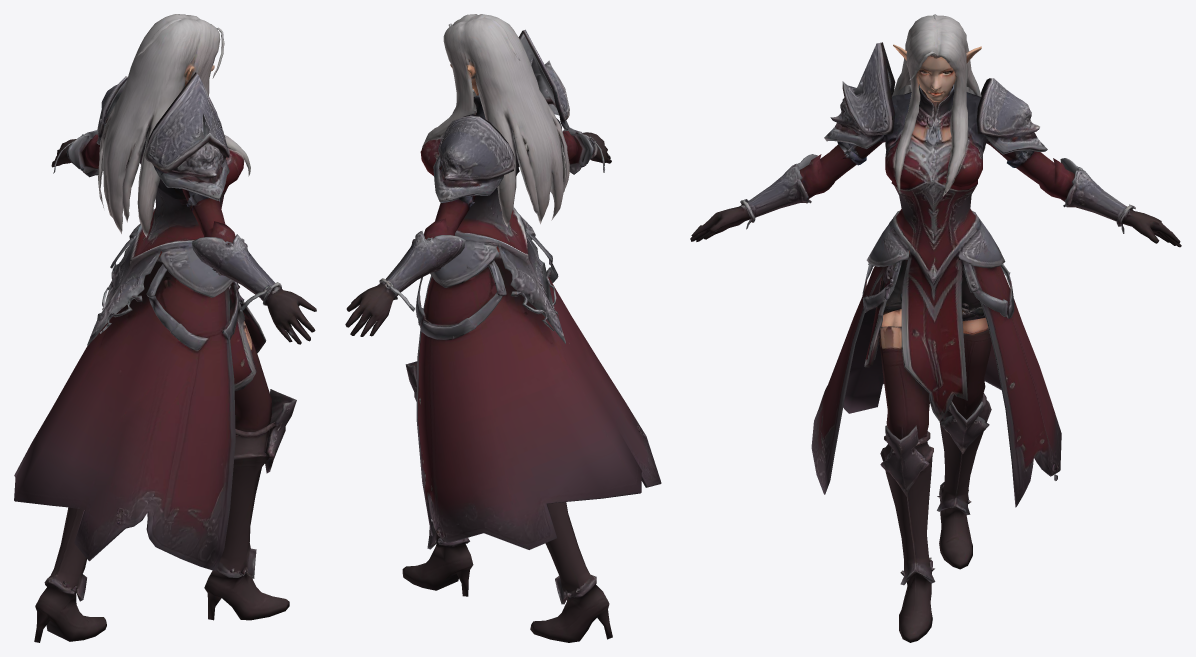
The model's file is player.glb.
The picture shows the model from 3 angles, left to right: view 1: azimuth 30°, elevation 25°; view 2: azimuth 150°, elevation 25°; view 3: azimuth 270°, elevation 25°; orthographic projection. The views are drawn at different scales.
Visible parts, largest first — view 1: tripo_node_5d50fbbb-e93b-4626-8312-487733e885f3; view 2: tripo_node_5d50fbbb-e93b-4626-8312-487733e885f3; view 3: tripo_node_5d50fbbb-e93b-4626-8312-487733e885f3.
Part boxes in pixels (box(x1,y1,x2,y2)): tripo_node_5d50fbbb-e93b-4626-8312-487733e885f3: box(14, 14, 316, 642); tripo_node_5d50fbbb-e93b-4626-8312-487733e885f3: box(345, 14, 661, 642); tripo_node_5d50fbbb-e93b-4626-8312-487733e885f3: box(690, 14, 1181, 642).
Bounding box in the file's own units: 0.4551 × 0.998 × 0.7676.
1 material, 1 textured.
